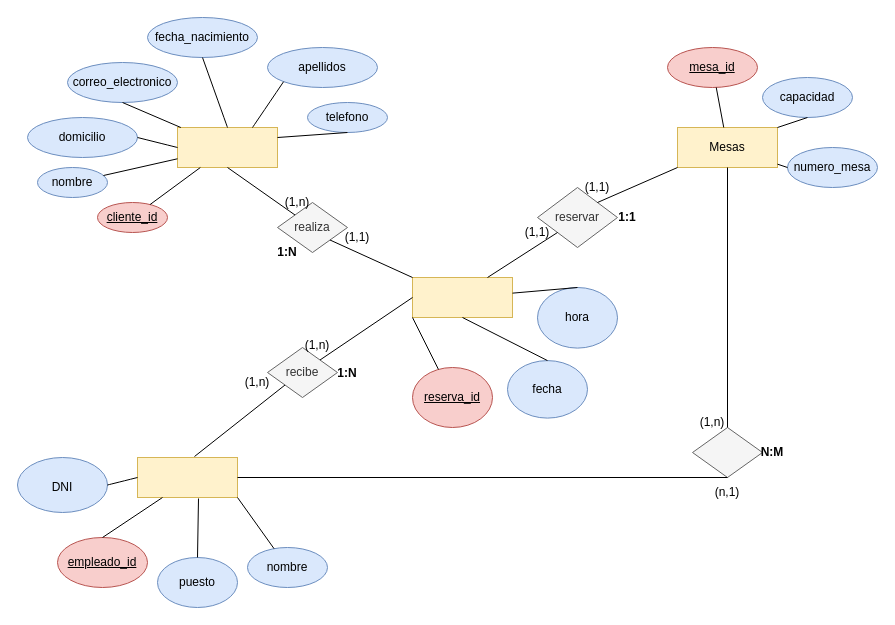
This 895x625 diagram has some shape labels left out. The shapes that lost their labels are listed below. From the top down, each one's centre as x and y in pixels, then its label:
At point (227, 147): "Clientes".
At point (462, 297): "Reservas".
At point (727, 452): "distribuye".
At point (187, 477): "Empleados".
